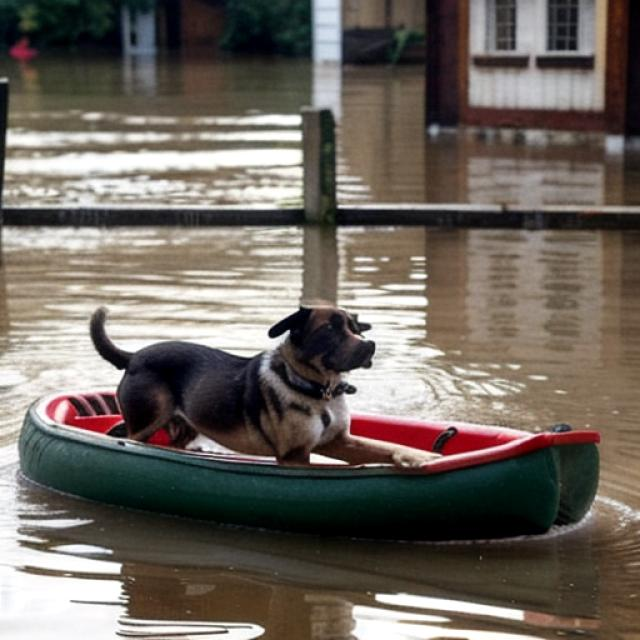dog: (77, 287, 398, 478)
